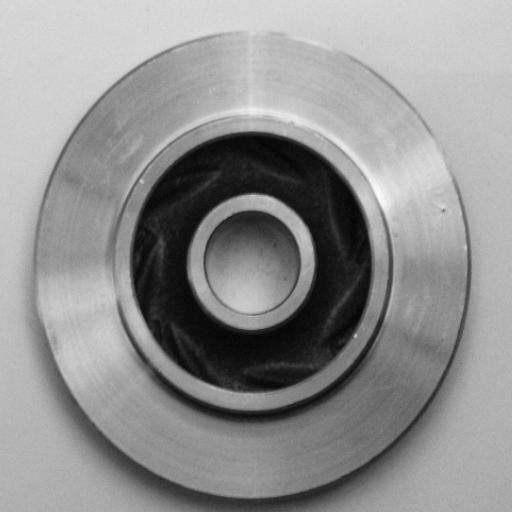unpolished_casting: (32, 29, 476, 506)
